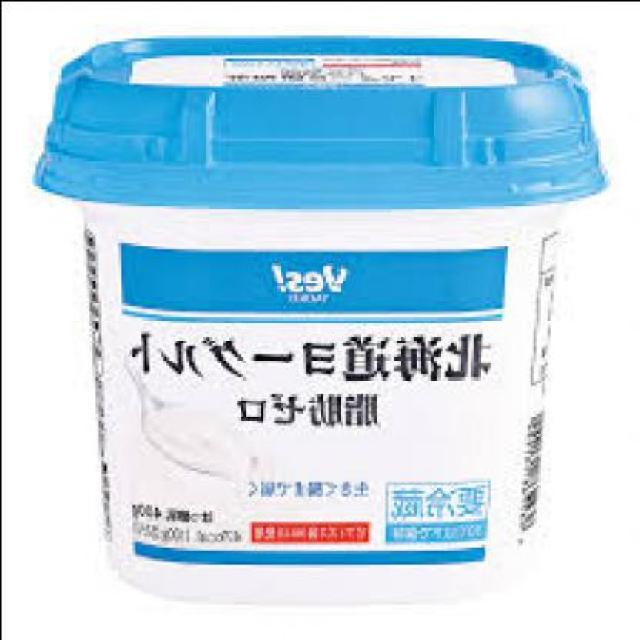PLASTIC: (34, 31, 612, 603), (37, 31, 609, 204)
